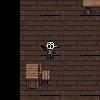Jason: (40, 40, 59, 59)
Obstacle: (23, 62, 51, 91)
